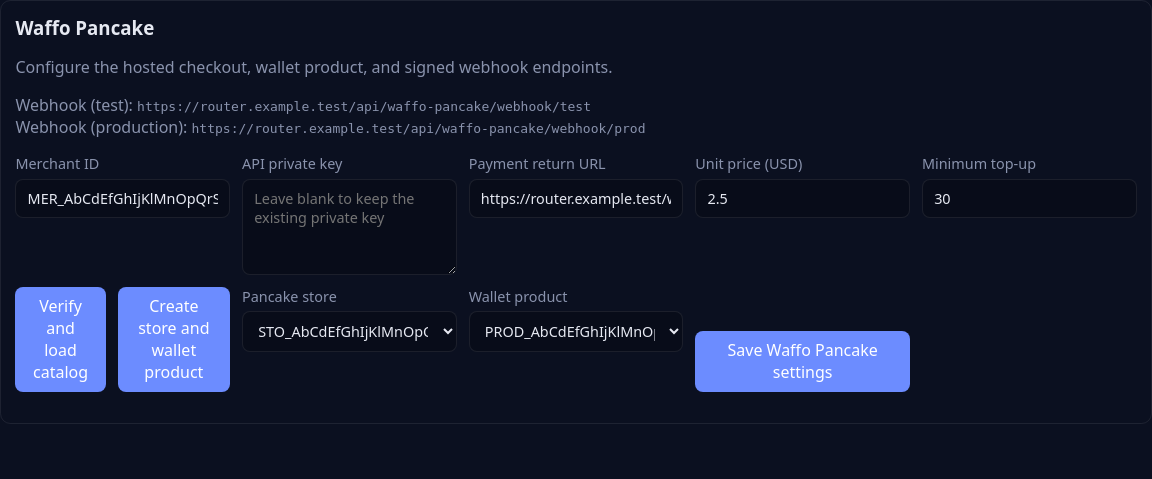
WaffoPancakeAdminPanel › uses persisted credentials without re-exposing the private key and saves all settings atomically
Check: the text "https://router.example.test/api/waffo-pancake/webhook/test" is shown, box [137,99,591,114]
Check: the text box labelled "API private key" is empty, box [242,179,457,275]
Click the button "Verify and load catalog": {"x": 61, "y": 339} [15,287,106,392]
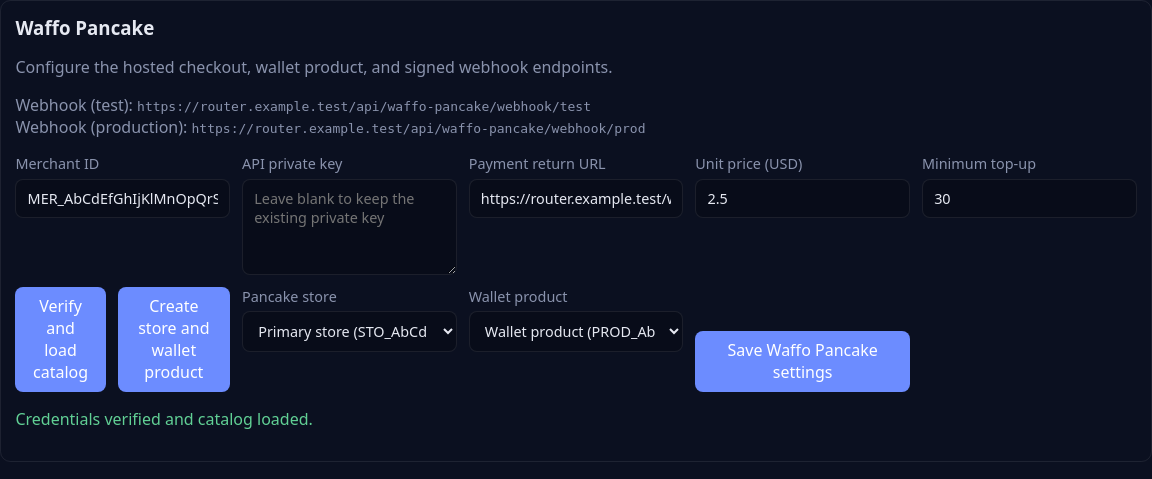
Check: the text "Credentials verified and catalog loaded." is shown, box [15,408,313,430]
Click the button "Save Waffo Pancake settings": {"x": 803, "y": 361} [695,331,910,392]
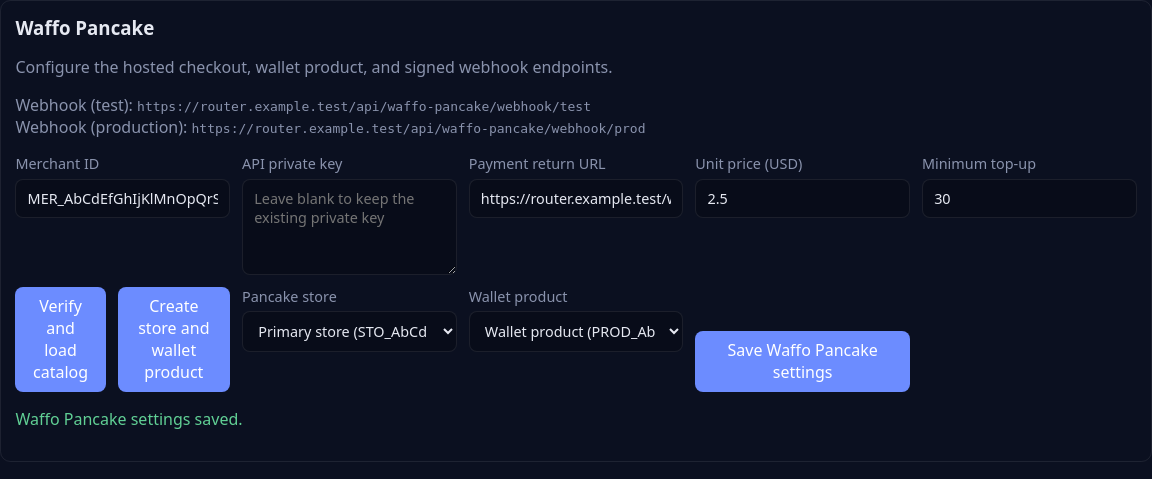
Check: the text "Waffo Pancake settings saved." is shown, box [15,408,243,430]
